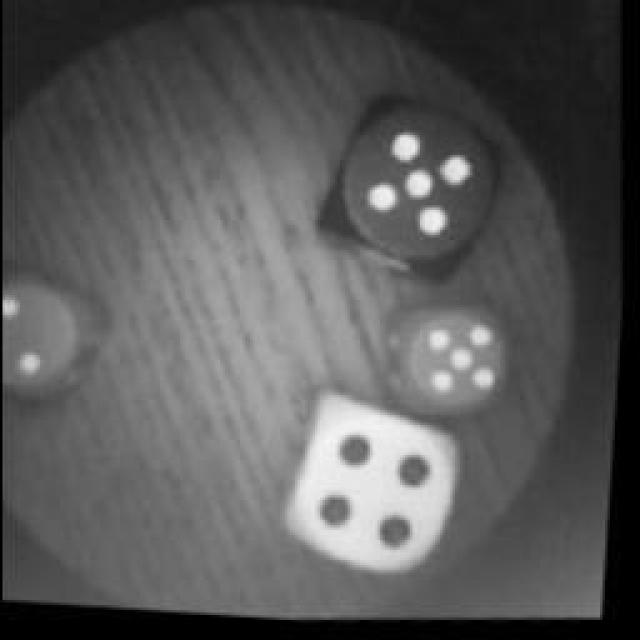dice_2: (0, 280, 118, 412)
dice_4: (276, 402, 476, 586)
dice_5: (318, 92, 518, 288), (384, 296, 518, 426)
